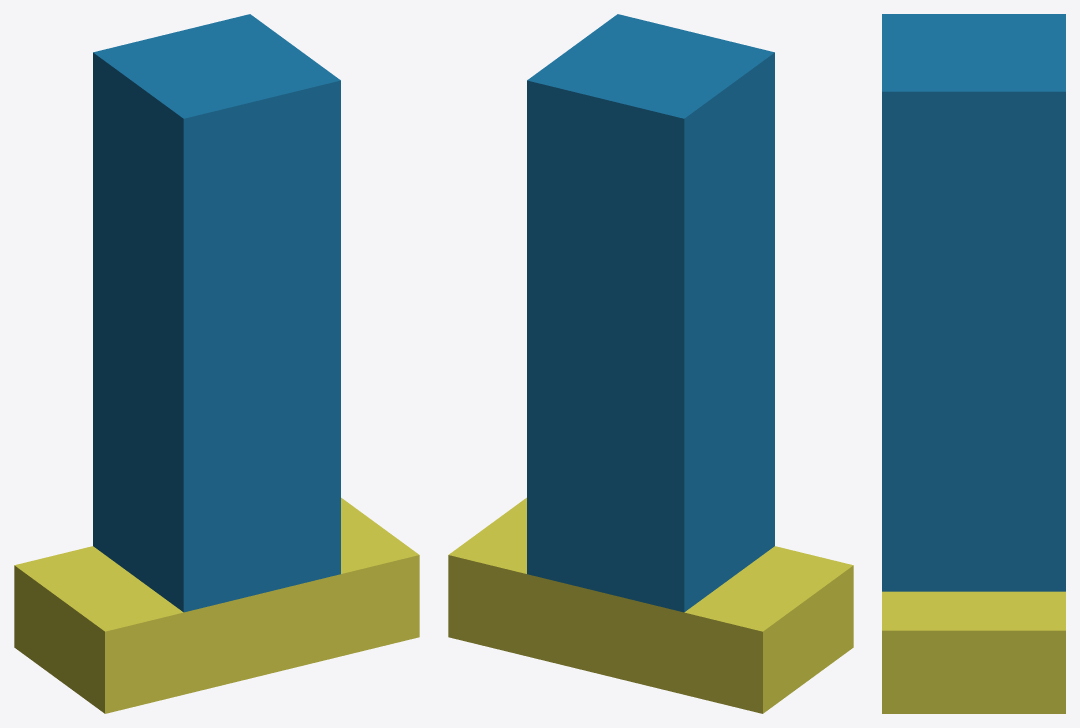
The model's file is leg.fbx.
3 views of the same model, side by side, from view 1: azimuth 30°, elevation 25°; view 2: azimuth 150°, elevation 25°; view 3: azimuth 270°, elevation 25° (orthographic).
Visible parts, largest first — view 1: model; view 2: model; view 3: model.
Boxes of the visible parts, x1=… form: model: x1=14, y1=14, x2=419, y2=713; model: x1=448, y1=14, x2=853, y2=713; model: x1=882, y1=14, x2=1065, y2=713.
Bounding box in the file's own units: 4 × 7 × 2.
